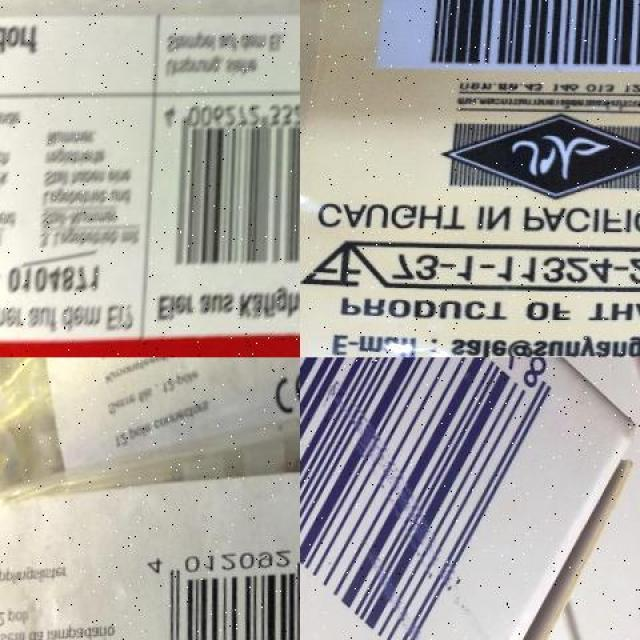Barcode: (300, 357, 572, 640), (155, 96, 300, 280), (131, 517, 300, 640), (388, 0, 640, 72)
